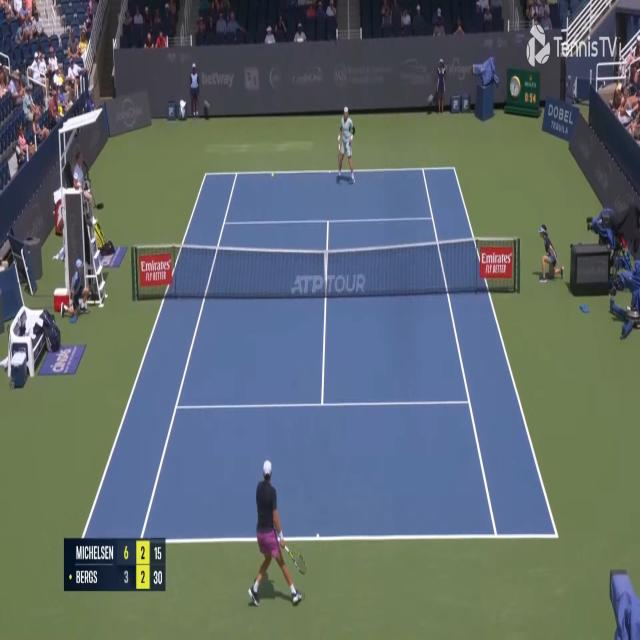tennis-player: (246, 456, 308, 612), (336, 104, 356, 185)
